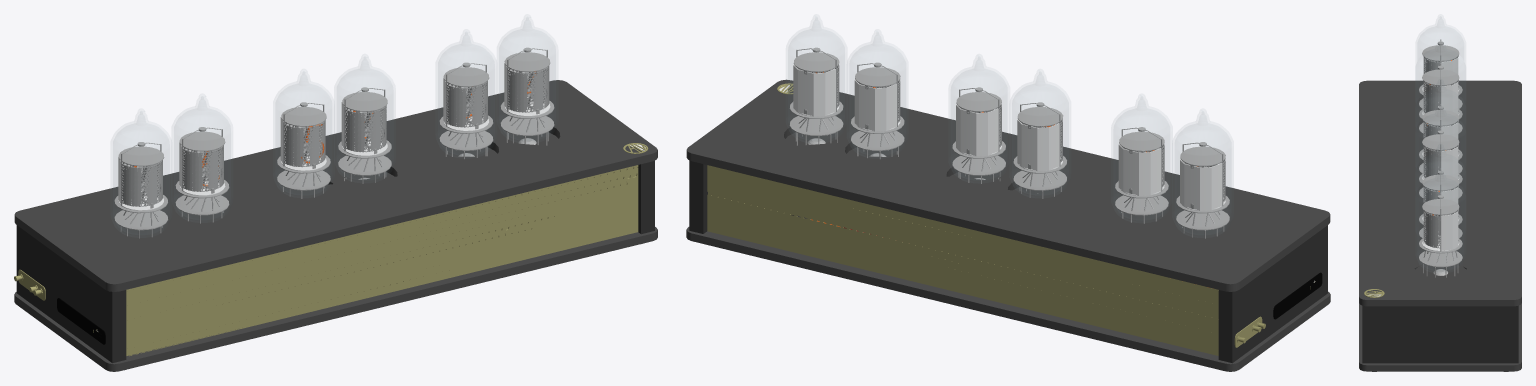
File: Htask5.fbx
The picture shows the model from 3 angles, left to right: view 1: azimuth 30°, elevation 25°; view 2: azimuth 150°, elevation 25°; view 3: azimuth 270°, elevation 25°; orthographic projection. The views are drawn at different scales.
Parts seen in each view (by area): view 1: pCube19, pCube23, pCube18, pCube20, pPlane6, pPlane4, polySurface48, pPlane5, pCylinder21, pCylinder58, pCylinder57, pCylinder47 (+12 smaller); view 2: pCube19, pCube24, pCube18, pCube20, pCylinder207, pCylinder22, polySurface164, pCylinder37, polySurface154, polySurface86, pCylinder61, pCylinder209 (+12 smaller); view 3: pCube19, pCube21, pCube18, pCylinder57, polySurface154, pPlane6, pCylinder35, pCylinder43, polySurface48, pPlane4, pCylinder209, pCylinder47 (+11 smaller).
Part boxes in pixels (left/top/right/bottom): pCube19: left=14, top=80, right=657, bottom=291; pCube23: left=126, top=165, right=638, bottom=356; pCube18: left=14, top=227, right=657, bottom=371; pCube20: left=16, top=225, right=126, bottom=363; pPlane6: left=504, top=52, right=550, bottom=116; pPlane4: left=342, top=92, right=387, bottom=156; polySurface48: left=179, top=131, right=225, bottom=195; pPlane5: left=281, top=106, right=326, bottom=170; pCylinder21: left=118, top=146, right=164, bottom=210; pCylinder58: left=443, top=67, right=489, bottom=131; pCylinder57: left=499, top=17, right=555, bottom=140; pCylinder47: left=275, top=71, right=331, bottom=195; pCube19: left=686, top=79, right=1330, bottom=291; pCube24: left=707, top=165, right=1218, bottom=355; pCube18: left=686, top=227, right=1330, bottom=371; pCube20: left=1218, top=225, right=1327, bottom=363; pCylinder207: left=1115, top=129, right=1168, bottom=215; pCylinder22: left=1176, top=144, right=1229, bottom=230; polySurface164: left=851, top=64, right=904, bottom=150; pCylinder37: left=1013, top=104, right=1067, bottom=190; polySurface154: left=789, top=49, right=843, bottom=135; polySurface86: left=952, top=89, right=1005, bottom=175; pCylinder61: left=849, top=31, right=905, bottom=155; pCylinder209: left=1175, top=110, right=1231, bottom=234; pCube19: left=1359, top=80, right=1521, bottom=306; pCube21: left=1362, top=305, right=1518, bottom=363; pCube18: left=1359, top=303, right=1521, bottom=371; pCylinder57: left=1417, top=170, right=1463, bottom=270; polySurface154: left=1419, top=193, right=1462, bottom=267; pPlane6: left=1422, top=199, right=1459, bottom=251; pCylinder35: left=1417, top=40, right=1463, bottom=100; pCylinder43: left=1417, top=105, right=1463, bottom=165; polySurface48: left=1422, top=69, right=1459, bottom=115; pPlane4: left=1422, top=134, right=1459, bottom=180; pCylinder209: left=1417, top=16, right=1463, bottom=60; pCylinder47: left=1417, top=81, right=1463, bottom=124.
Bounding box in the file's own units: 51.16 × 18.67 × 15.97.
